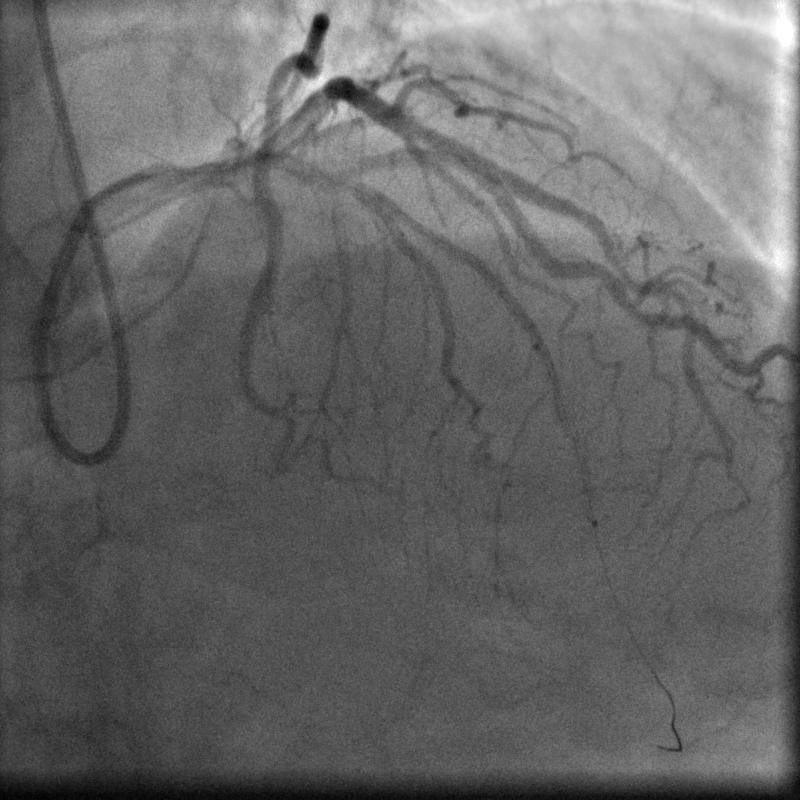Stenosis: (443, 143, 482, 182)
